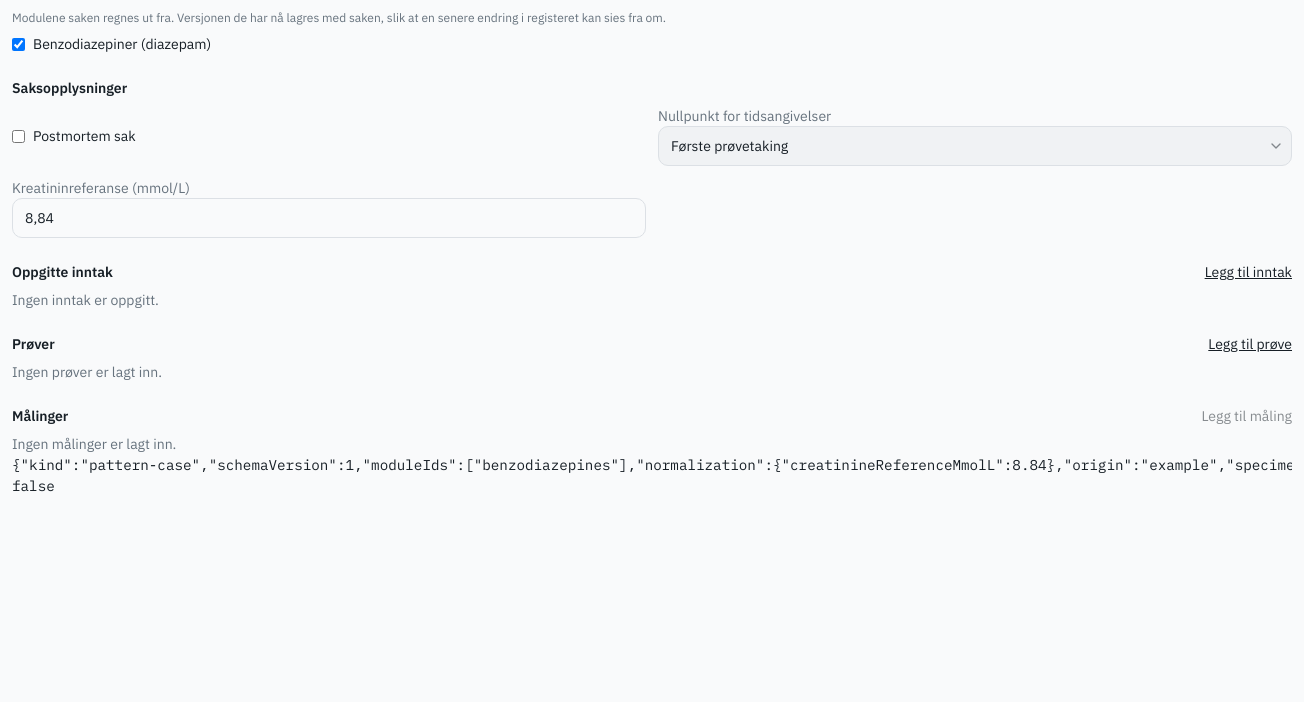
entering a case › refuses an ambiguous number instead of guessing which reader typed it
The width and height of the screenshot is (1304, 702).
Click the button "Legg til prøve": (1250, 344) [1208, 334, 1292, 354]
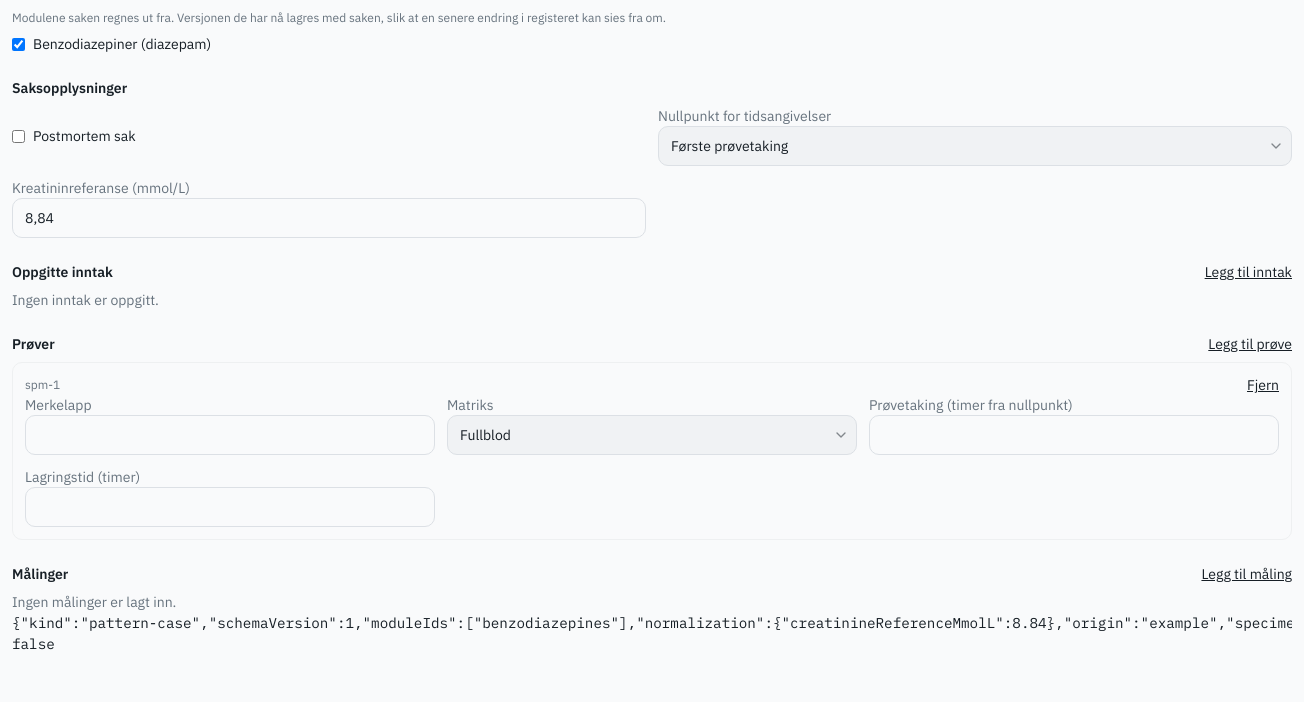
In the field labelled "Prøvetaking (timer fra nullpunkt)": (1074, 435) [869, 415, 1279, 455], type "1,500"
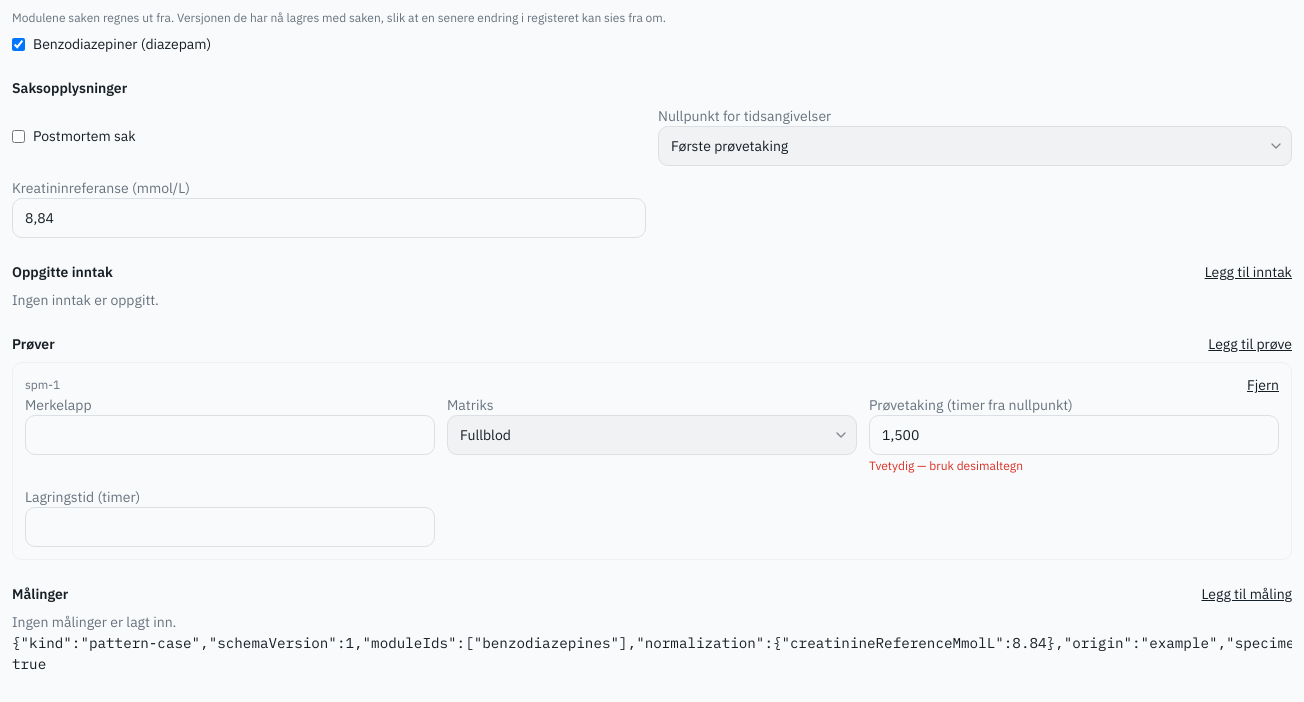
Expected: the text "Tvetydig — bruk desimaltegn" is shown, [869, 458, 1023, 473]
Expected: the text with test id "draft-problem" reads "true", [12, 654, 46, 673]
Replace the text in the field labelled "Prøvetaking (timer fra nullpunkt)" with "1,5": (1074, 435) [869, 415, 1279, 455]
(page scrolled)
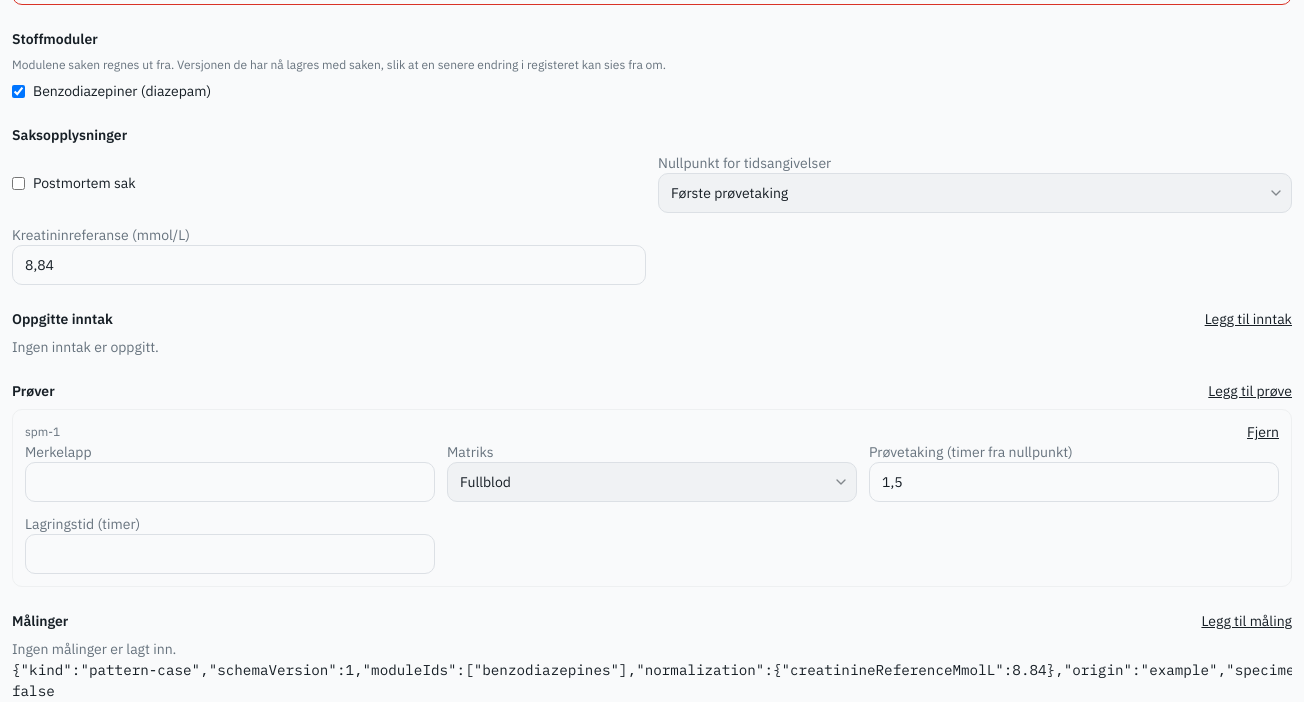
Expected: the text with test id "draft-problem" reads "false", [12, 681, 55, 700]
